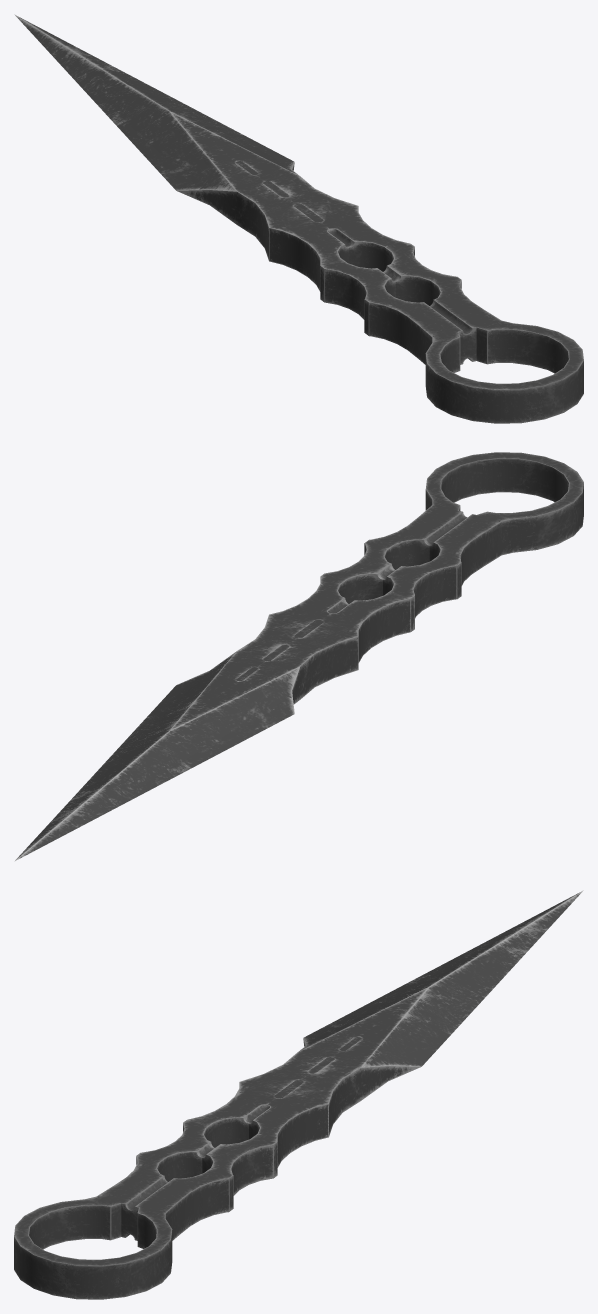
The picture shows the model from 3 angles, top to bottom: view 1: azimuth 30°, elevation 25°; view 2: azimuth 150°, elevation 25°; view 3: azimuth 330°, elevation 25°; orthographic projection.
Parts seen in each view (by area): view 1: ThrowingKnife; view 2: ThrowingKnife; view 3: ThrowingKnife.
Boxes of the visible parts, x1=… form: ThrowingKnife: x1=14, y1=14, x2=583, y2=423; ThrowingKnife: x1=14, y1=452, x2=583, y2=861; ThrowingKnife: x1=14, y1=890, x2=583, y2=1299.
Bounding box in the file's own units: 0.0348 × 0.00812 × 0.2319.
Materials: 1 (1 with a texture image).
